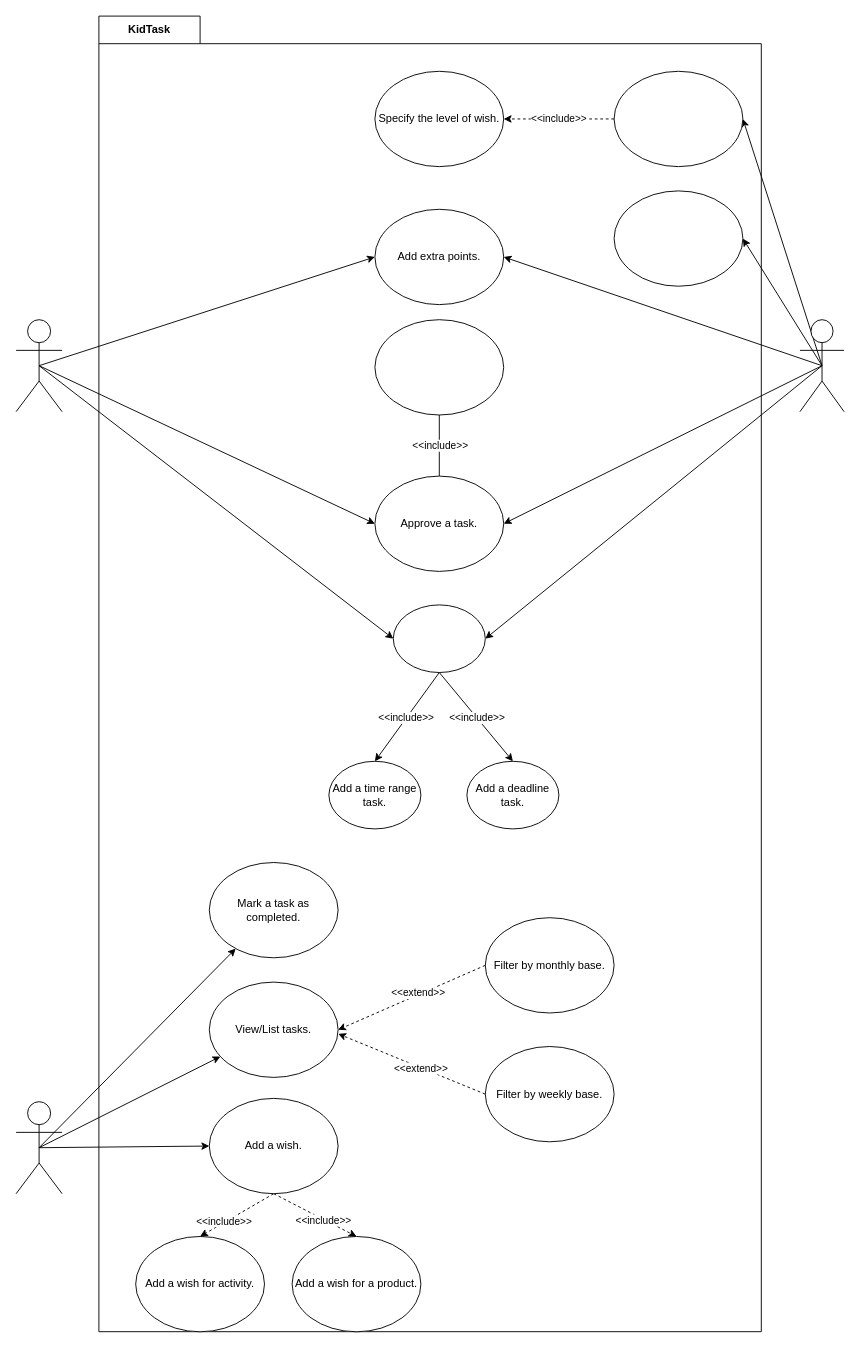
The diagram is 860 pixels wide and 1349 high, and some of its shapes have lost their labels. Each missing label, with the centre of its shape:
Add a task.: [438,638]
Approve a wish.: [678,118]
Child: [38,1147]
Give a rating to the task.: [439,367]
Parent: [821,365]
Reject a wish.: [678,238]
Teacher: [38,365]
